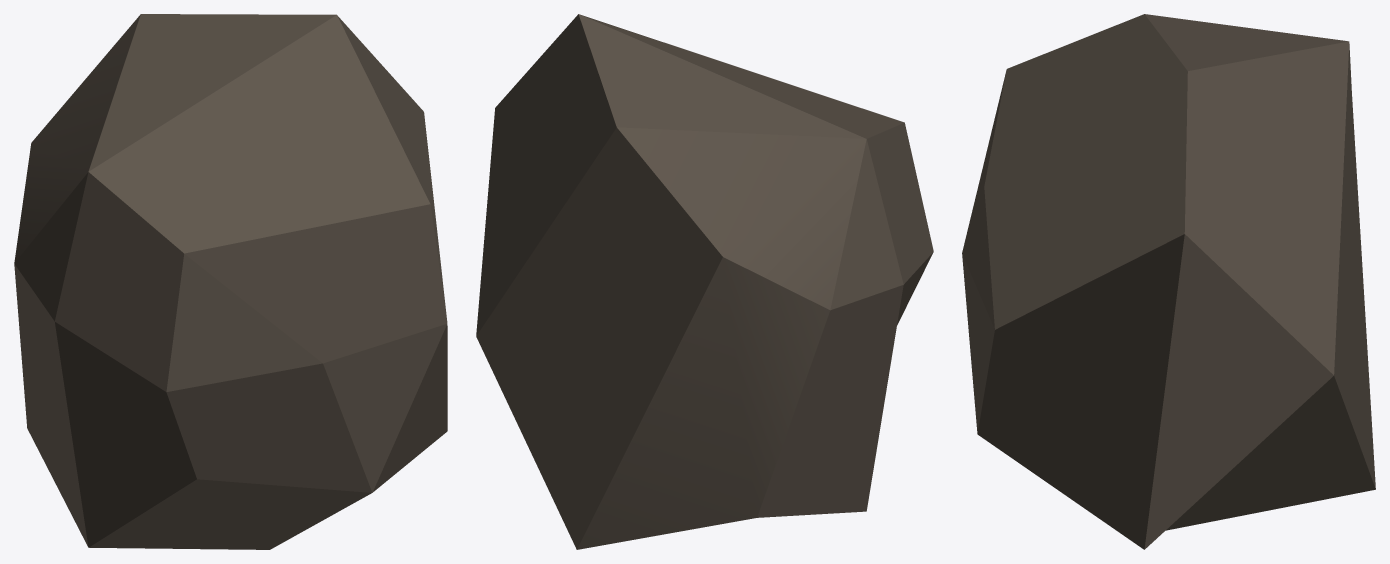
Rendered from SM_Pebble_Debris_03.fbx.
The picture shows the model from 3 angles, left to right: view 1: azimuth 30°, elevation 25°; view 2: azimuth 150°, elevation 25°; view 3: azimuth 270°, elevation 25°; orthographic projection. The views are drawn at different scales.
Visible parts, largest first — view 1: SM_Pebble_Debris_03_LOD0; view 2: SM_Pebble_Debris_03_LOD0; view 3: SM_Pebble_Debris_03_LOD0.
Part boxes in pixels (x1,y1,x2,y2): SM_Pebble_Debris_03_LOD0: (14,14,447,549); SM_Pebble_Debris_03_LOD0: (476,14,933,549); SM_Pebble_Debris_03_LOD0: (962,14,1375,549).
Size of the model in its own units: 34.33 by 38.79 by 46.62.
1 material, 1 textured.
